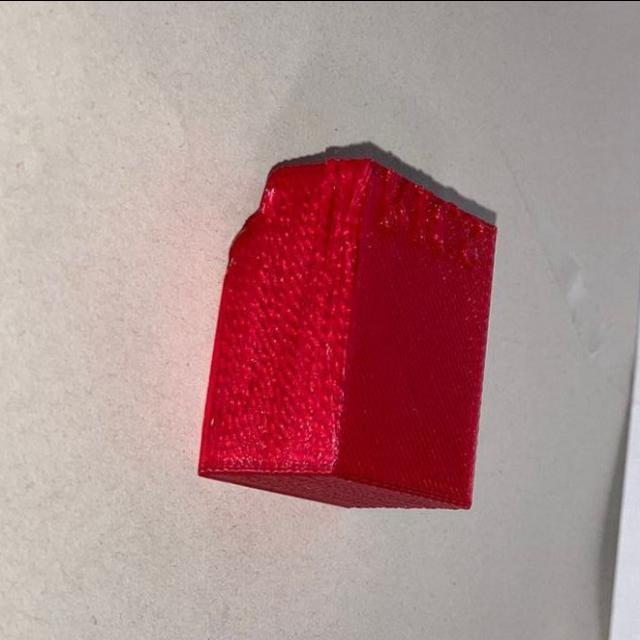Warping: (229, 172, 289, 264)
